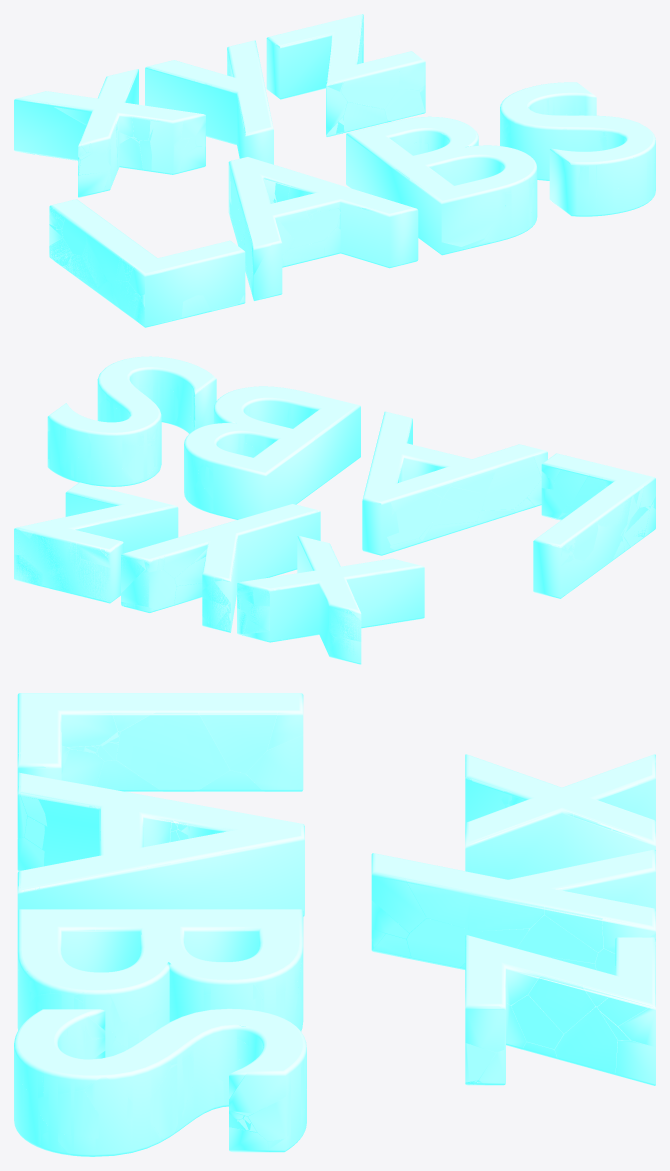
File: heroText.glb
The picture shows the model from 3 angles, top to bottom: view 1: azimuth 30°, elevation 25°; view 2: azimuth 150°, elevation 25°; view 3: azimuth 270°, elevation 25°; orthographic projection. The views are drawn at different scales.
Parts seen in each view (by area): view 1: origin, Text.020_cell.004, Text.004_cell.044, Text.002_cell.002, Text.004_cell.046, Text.004_cell.039, Text.003_cell.022, Text.002_cell.025, Text.004_cell.011, Text.003_cell.006, Text.004_cell.037, Text.020_cell.068 (+10 smaller); view 2: origin, Text.002_cell.037, Text.005_cell.046, Text.002_cell.033, Text.004_cell.031, Text.006_cell.066, Text.004_cell.019, Text.002_cell.018, Text.005_cell.004, Text.003_cell.036, Text.004_cell.008, Text.002_cell.059 (+18 smaller); view 3: origin, Text.003_cell.008, Text.003_cell.020, Text.004_cell.016, Text.005_cell.037, Text.003_cell.003, Text.004_cell.021, Text.005_cell.001, Text.005_cell.024, Text_cell.074, Text.005_cell.029, Text.005_cell.006 (+26 smaller).
Boxes of the visible parts, <box> form: origin: <box>14,14,655,327</box>; Text.020_cell.004: <box>413,177,505,246</box>; Text.004_cell.044: <box>341,67,399,108</box>; Text.002_cell.002: <box>290,209,340,248</box>; Text.004_cell.046: <box>385,89,424,120</box>; Text.004_cell.039: <box>344,102,387,132</box>; Text.003_cell.022: <box>86,232,120,282</box>; Text.002_cell.025: <box>282,240,324,266</box>; Text.004_cell.011: <box>398,60,425,89</box>; Text.003_cell.006: <box>111,280,172,322</box>; Text.004_cell.037: <box>326,79,347,134</box>; Text.020_cell.068: <box>484,206,531,242</box>; origin: <box>14,356,655,664</box>; Text.002_cell.037: <box>482,455,541,510</box>; Text.005_cell.046: <box>121,570,176,610</box>; Text.002_cell.033: <box>387,491,441,544</box>; Text.004_cell.031: <box>77,559,110,597</box>; Text.006_cell.066: <box>326,599,361,641</box>; Text.004_cell.019: <box>21,532,71,572</box>; Text.002_cell.018: <box>432,498,479,525</box>; Text.005_cell.004: <box>163,542,208,578</box>; Text.003_cell.036: <box>554,468,589,505</box>; Text.004_cell.008: <box>43,564,81,595</box>; Text.002_cell.059: <box>434,462,485,512</box>; origin: <box>14,693,655,1156</box>; Text.003_cell.008: <box>116,712,229,791</box>; Text.003_cell.020: <box>198,712,277,773</box>; Text.004_cell.016: <box>555,1007,617,1074</box>; Text.005_cell.037: <box>406,918,472,968</box>; Text.003_cell.003: <box>246,735,303,791</box>; Text.004_cell.021: <box>528,974,595,1033</box>; Text.005_cell.001: <box>469,888,551,931</box>; Text.005_cell.024: <box>517,915,597,963</box>; Text_cell.074: <box>229,1054,304,1116</box>; Text.005_cell.029: <box>406,877,471,928</box>; Text.005_cell.006: <box>371,854,426,932</box>.
Bounding box in the file's own units: 5.08 × 0.4985 × 3.57.
